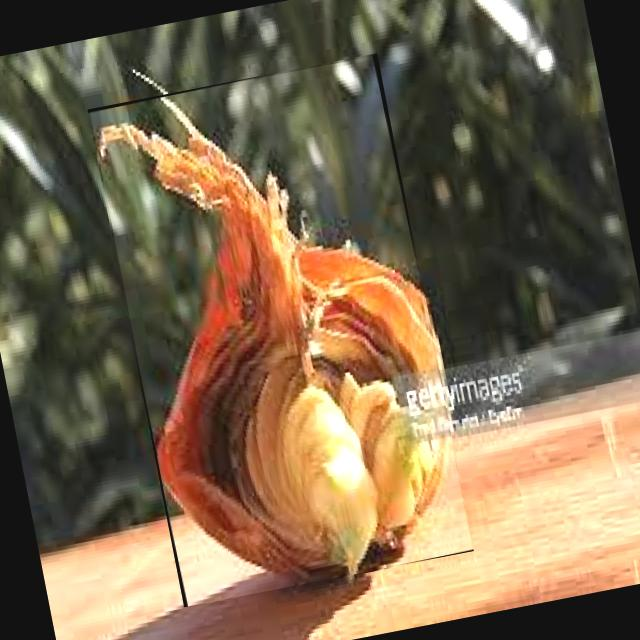rotten: (100, 97, 444, 575)
